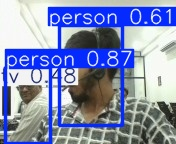headphone: (89, 30, 104, 78)
